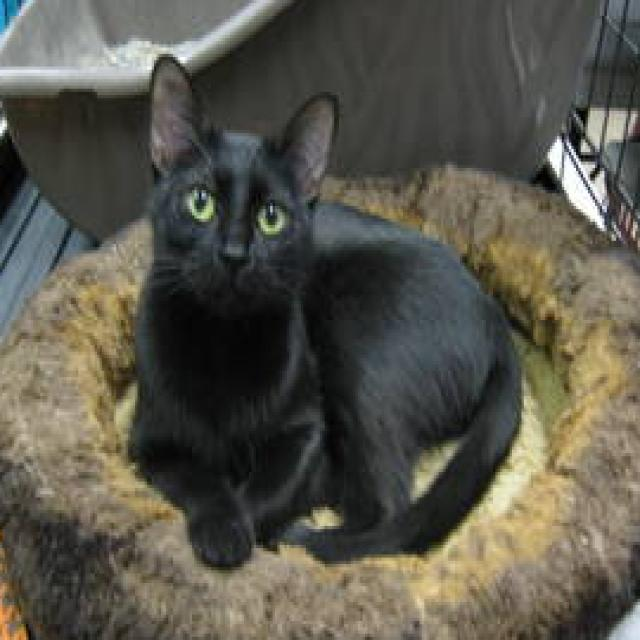Bombay: (133, 49, 524, 576)
